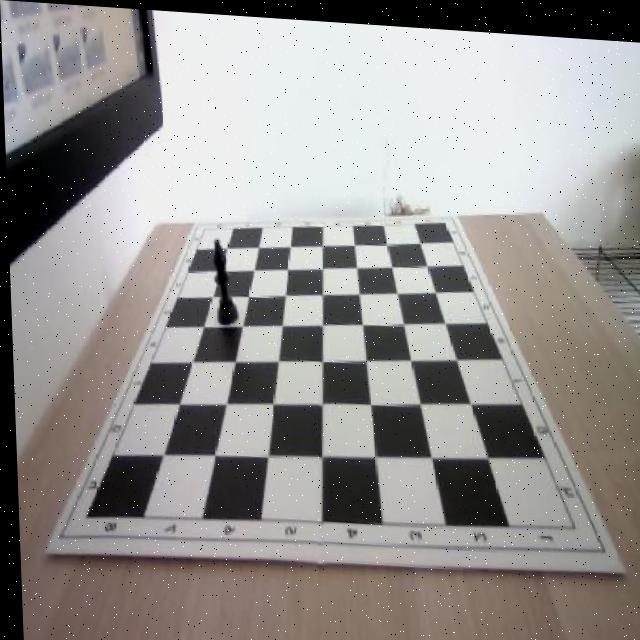bishop: (211, 232, 237, 322)
